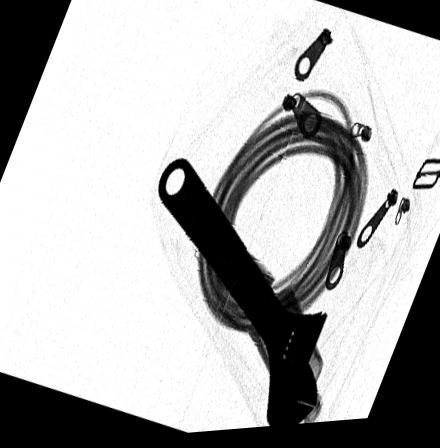Wrench: (154, 159, 327, 431)
